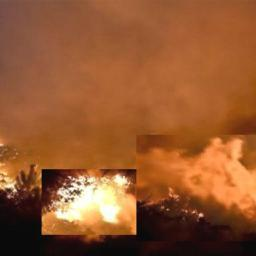Heavy smoke: (1, 1, 256, 188), (136, 136, 256, 226)
Large fire: (42, 169, 136, 236)
